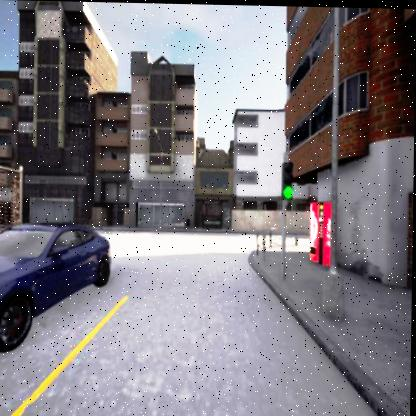vehicle: (0, 222, 113, 356)
